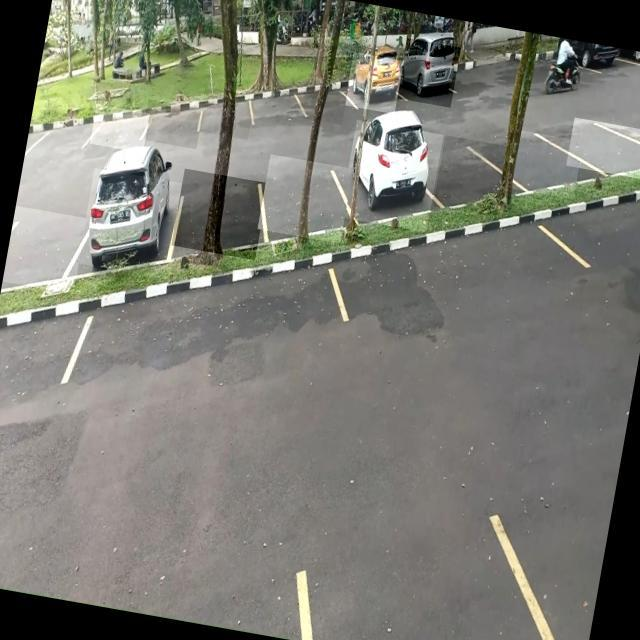empty: (171, 168, 268, 260), (258, 154, 352, 243), (2, 205, 86, 294), (433, 135, 508, 217), (511, 130, 583, 199), (565, 117, 640, 179), (140, 99, 203, 149), (197, 86, 255, 140), (90, 104, 150, 152), (250, 80, 305, 132), (299, 78, 348, 125)
occupied: (78, 168, 186, 280), (339, 119, 444, 232), (396, 38, 461, 108), (344, 52, 404, 114)
